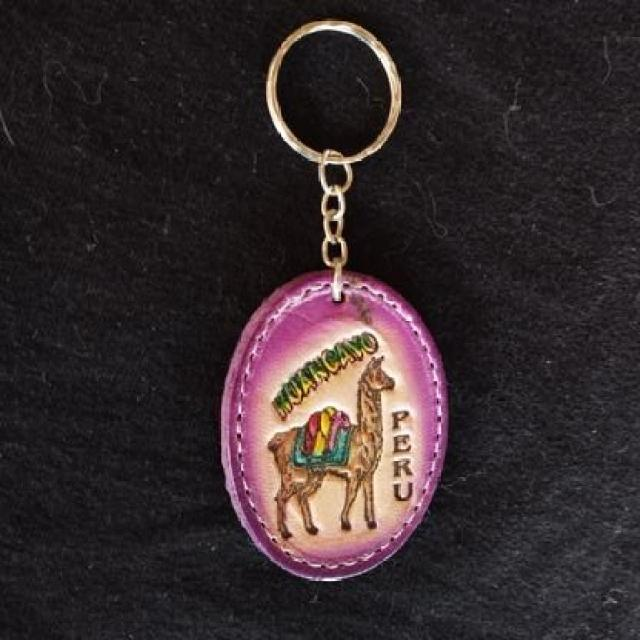Llavero: (218, 268, 450, 582)
